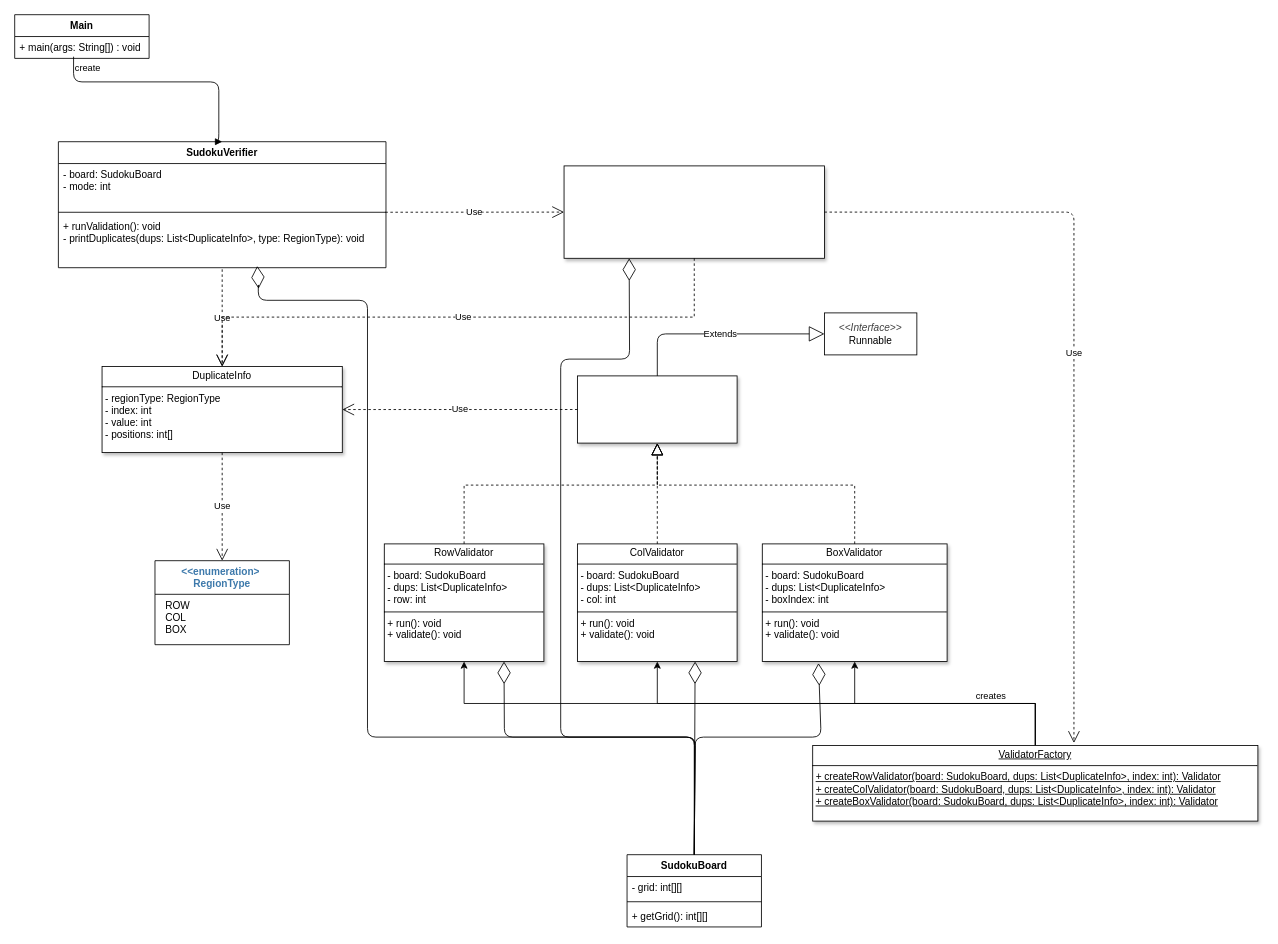
This 1278x944 diagram has some shape labels left out. The centre of each missing label's shape, as x and y in pixels:
"<<Interface>> Validator + run(): void + validate(): void" belongs at point 657,410.
"VerifierEngine - board: SudokuBoard + verify(mode: int): List<DuplicateInfo>" belongs at point 695,213.
